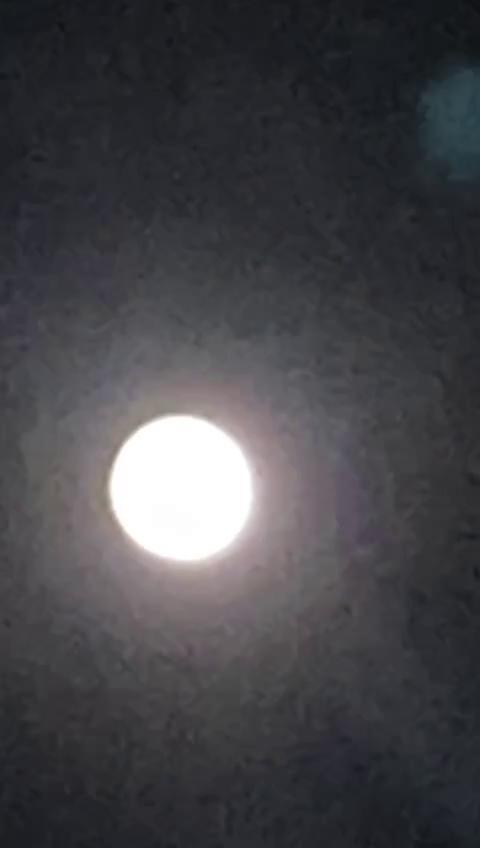moon: (102, 393, 269, 584)
